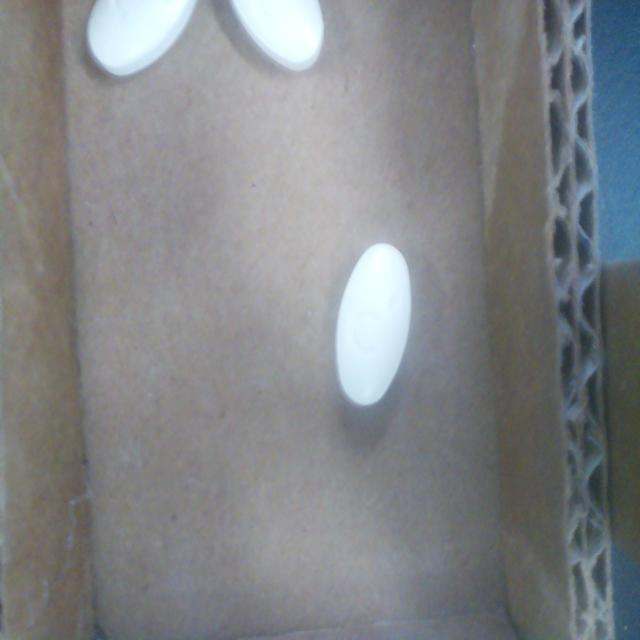pill: (335, 243, 411, 406), (87, 0, 197, 76), (231, 0, 324, 71)
